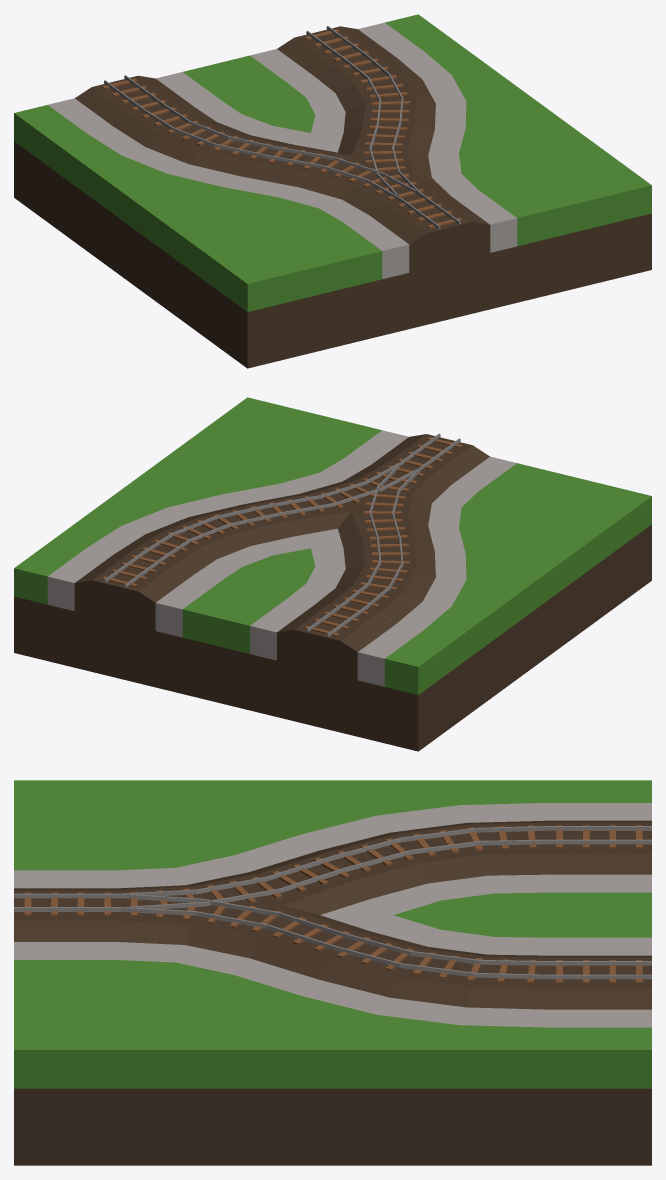
The model's file is tile-rail-conjunction.fbx.
3 renders of one model, top to bottom at view 1: azimuth 30°, elevation 25°; view 2: azimuth 150°, elevation 25°; view 3: azimuth 270°, elevation 25°, orthographic. The views are drawn at different scales.
Visible parts, largest first — view 1: tile-rail-conjunction; view 2: tile-rail-conjunction; view 3: tile-rail-conjunction.
Part boxes in pixels (x1,y1,x2,y2): tile-rail-conjunction: [14, 14, 651, 368]; tile-rail-conjunction: [14, 397, 651, 751]; tile-rail-conjunction: [14, 780, 651, 1165].
Bounding box in the file's own units: 30 × 6.75 × 30.
